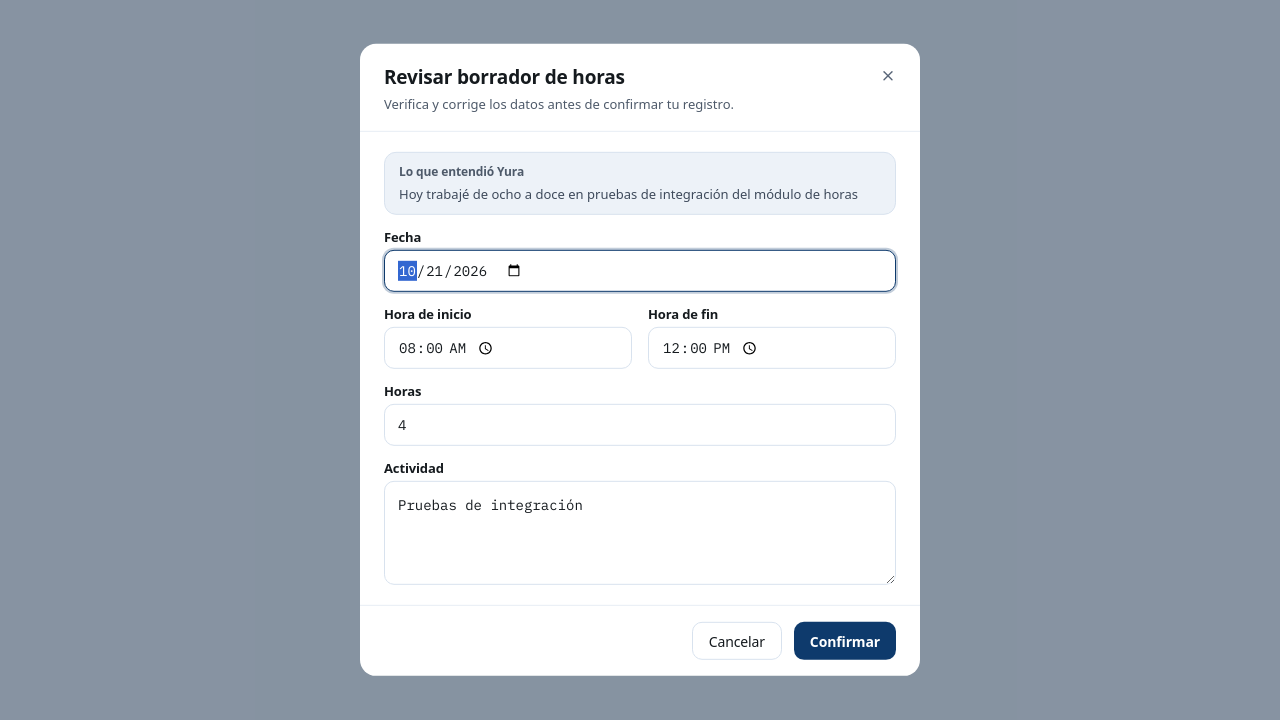
Test: VoiceDraftDialog — revisión y confirmación del borrador de voz (VOZ-06b) › valida el rango de horas con validateHoursValue y muestra el mismo mensaje que el formulario normal
Replace the text in the number field labelled "Horas" with "12". click: (640, 425)
box: [384, 404, 896, 446]
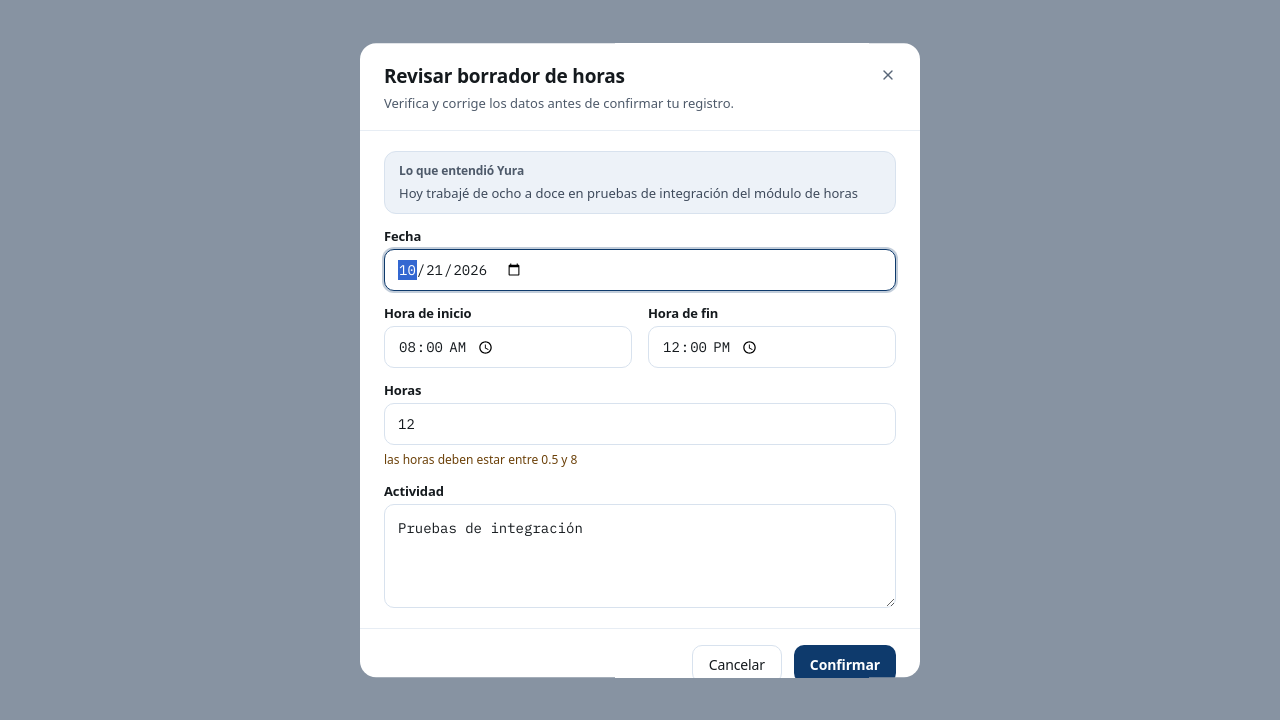
Click the button "Confirmar". click: (845, 665)
box: [794, 646, 896, 684]
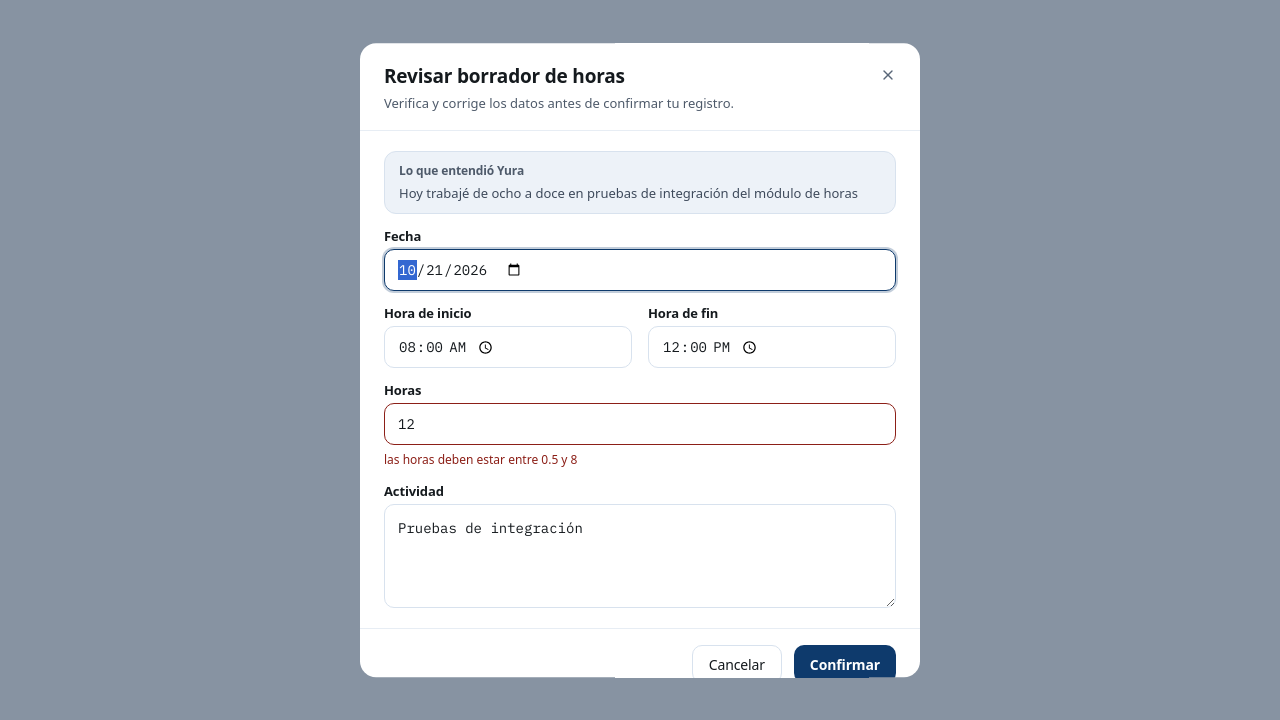
Replace the text in the number field labelled "Horas" with "4". click: (640, 425)
box: [384, 404, 896, 446]
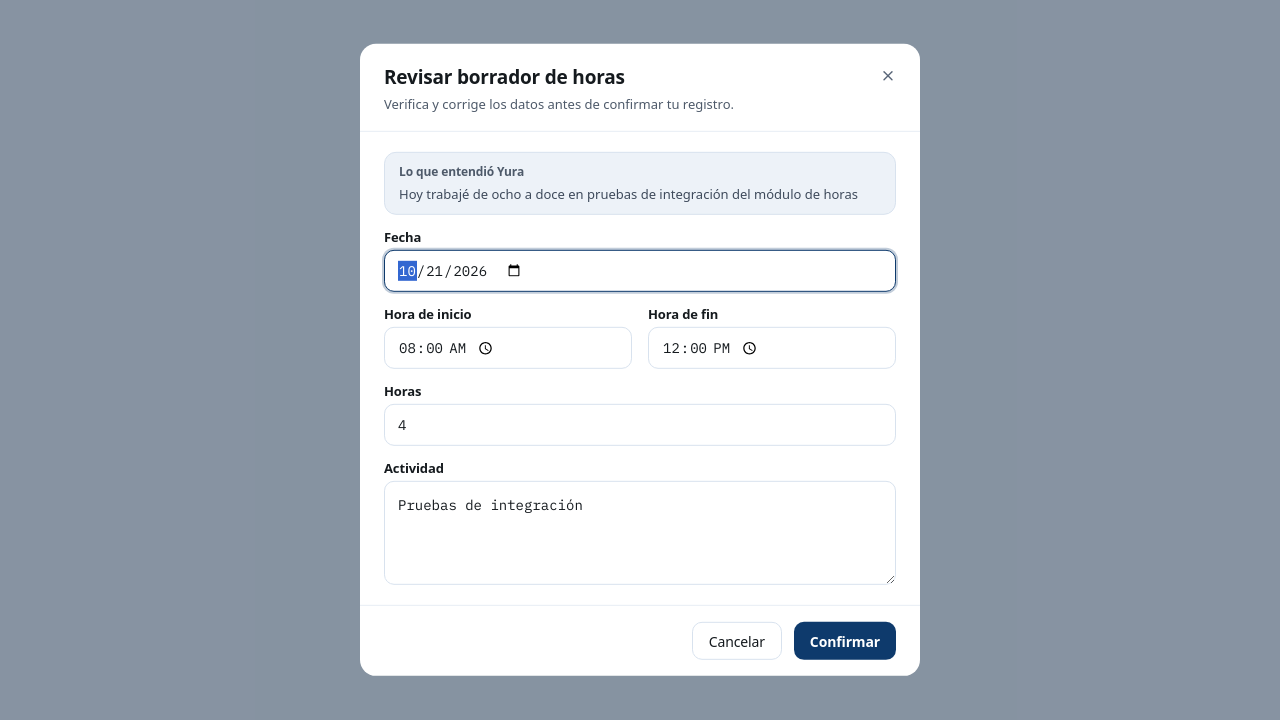
Result: the message "las horas deben estar entre 0.5 y 8" is gone
